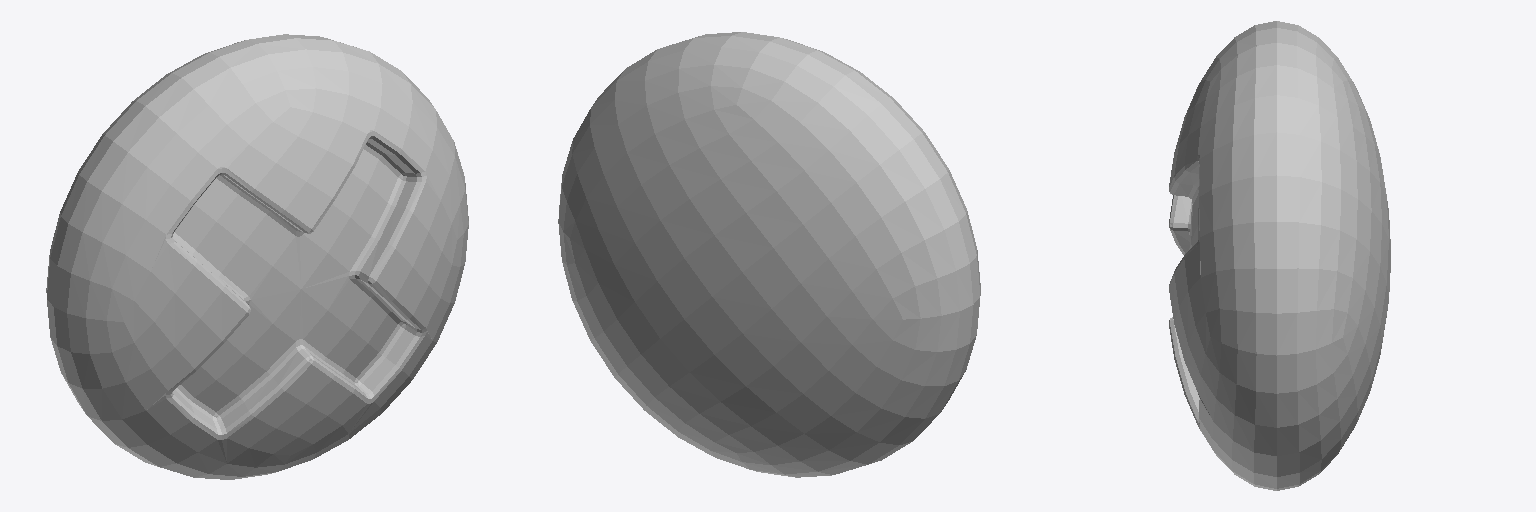
Rendered from error_GRP.obj.
3 views of the same model, side by side, from view 1: azimuth 30°, elevation 25°; view 2: azimuth 150°, elevation 25°; view 3: azimuth 270°, elevation 25° (orthographic).
Parts seen in each view (by area): view 1: error_GEO error_GRP; view 2: error_GEO error_GRP; view 3: error_GEO error_GRP.
Boxes of the visible parts, x1,y1,x2,y2 form: error_GEO error_GRP: [46, 34, 468, 479]; error_GEO error_GRP: [558, 32, 980, 477]; error_GEO error_GRP: [1169, 21, 1390, 490].
Size of the model in its own units: 1.13 by 1.13 by 0.5353.